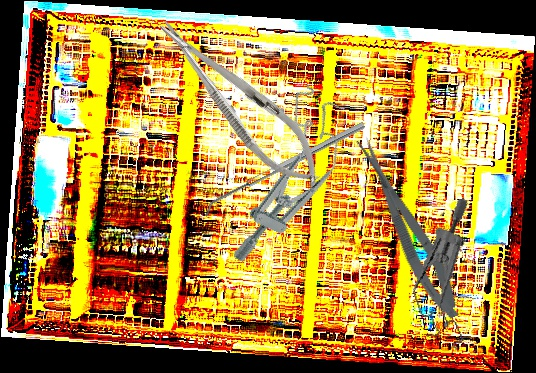Micro Scissor: (349, 129, 468, 326)
Needle Holder: (144, 4, 337, 201)
Spatula Surgical: (199, 121, 369, 218)
Speculum: (219, 81, 363, 281), (386, 196, 512, 359)
